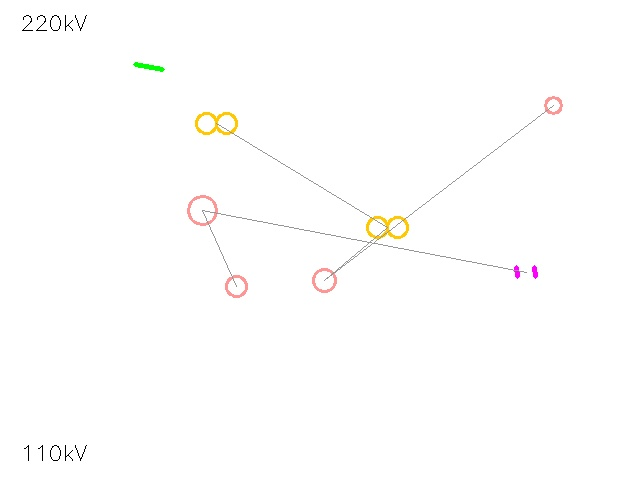busbar: (132, 50, 166, 84)
capacitor: (511, 257, 541, 287)
current_transformer: (174, 182, 230, 238), (215, 265, 257, 307)
reactor: (536, 88, 570, 122)
transformer_2w: (362, 202, 412, 252), (191, 98, 241, 148)
voltage_transformer: (301, 257, 347, 303)
